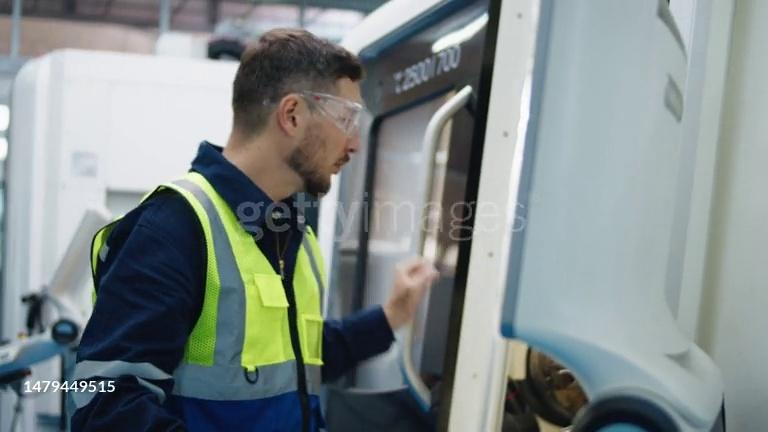person: (70, 30, 444, 432)
